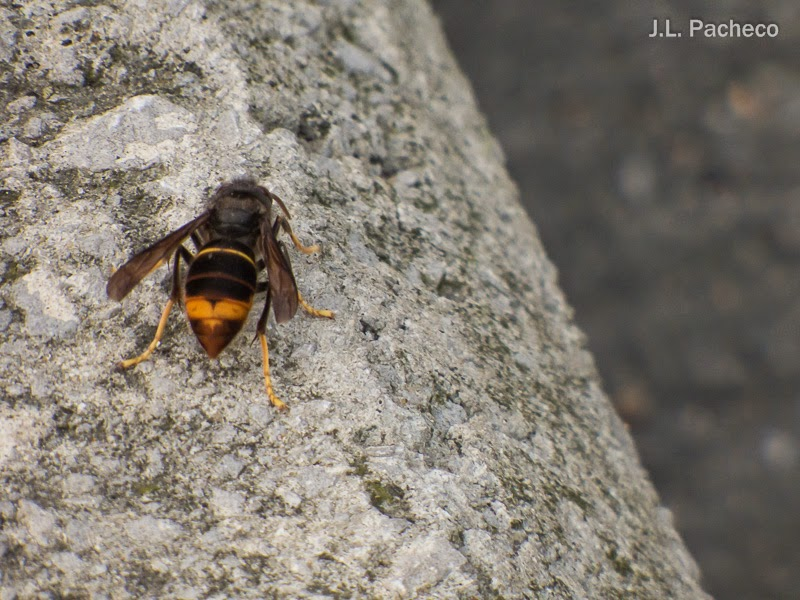hornet: (108, 170, 316, 391)
